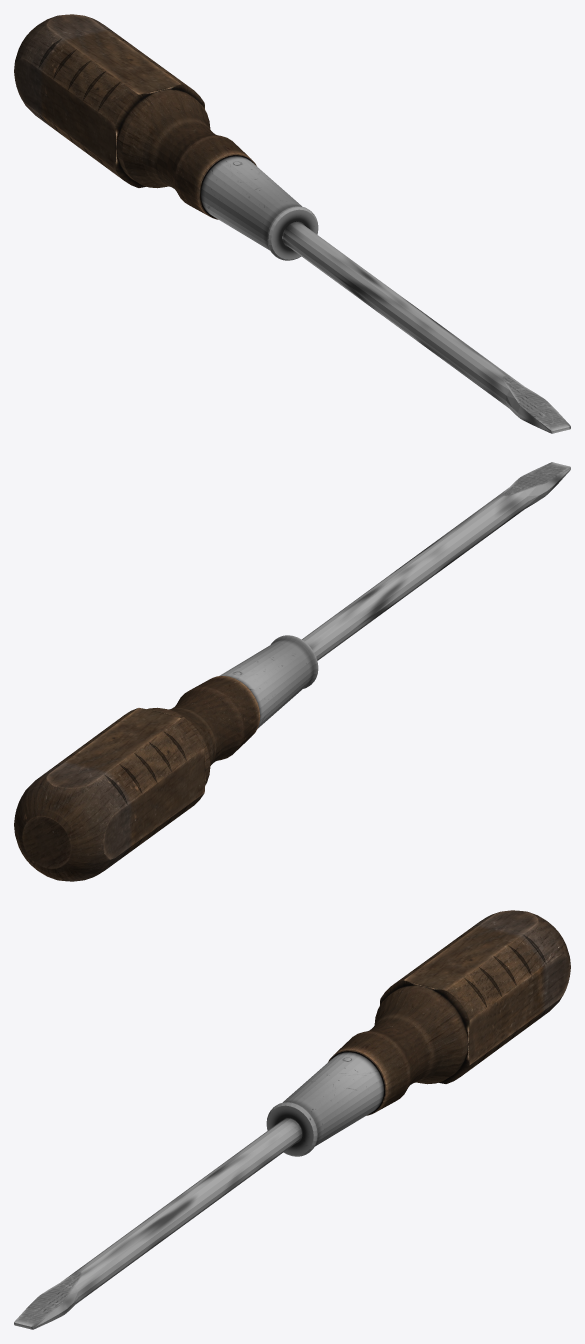
File: workshop_long_phillips_driver.obj
The picture shows the model from 3 angles, top to bottom: view 1: azimuth 30°, elevation 25°; view 2: azimuth 150°, elevation 25°; view 3: azimuth 330°, elevation 25°; orthographic projection.
Size of the model in its own units: 0.0261 by 0.0261 by 0.26.
1 material, 1 textured.
